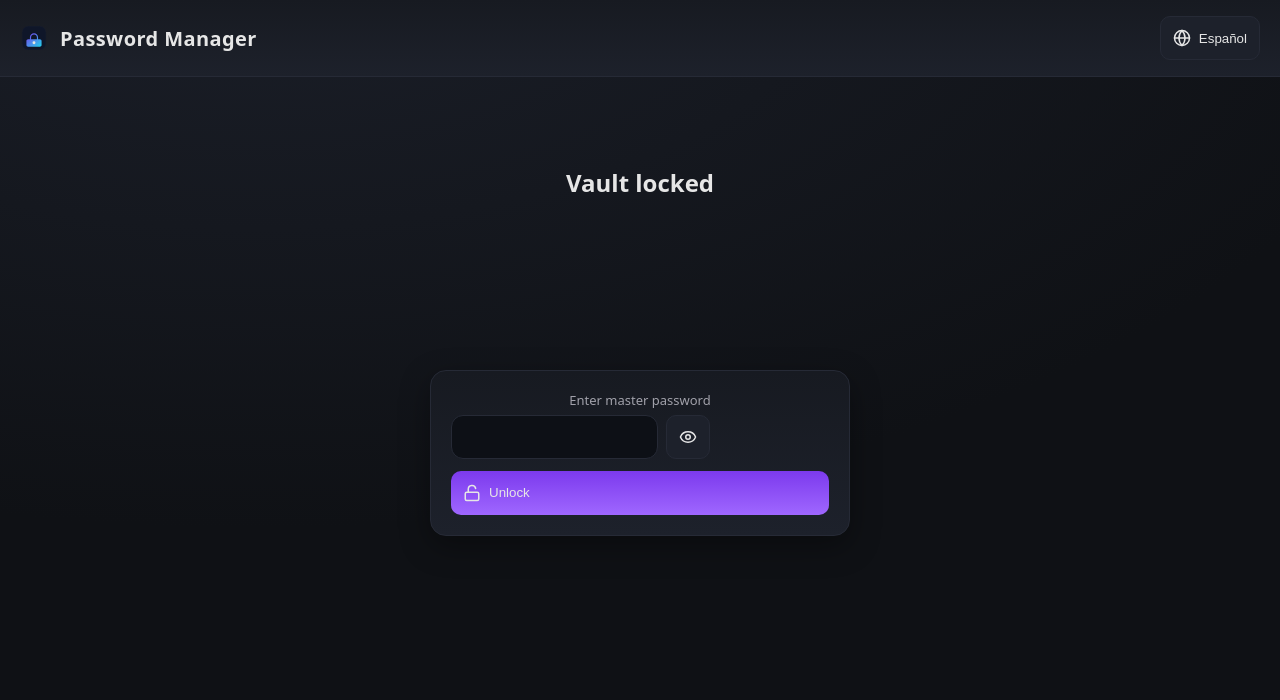
session-state › shows an inline error for a wrong master password
Expected: the heading "Vault locked" is shown, [566,166,714,199]
Step 1. Type "WrongPass!1" into the password field labelled "Enter master password" → (554, 437), box [451,415,658,459]
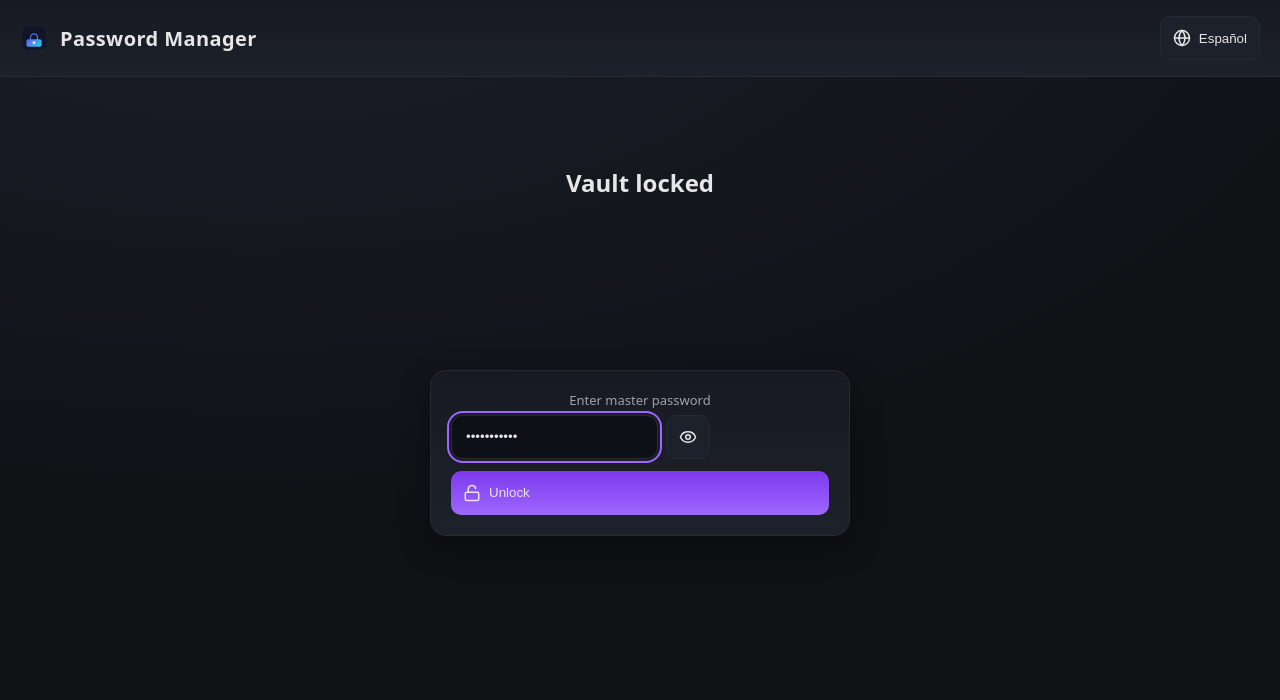
Step 2. Click the button "Unlock" → (509, 493), box [451,471,829,515]
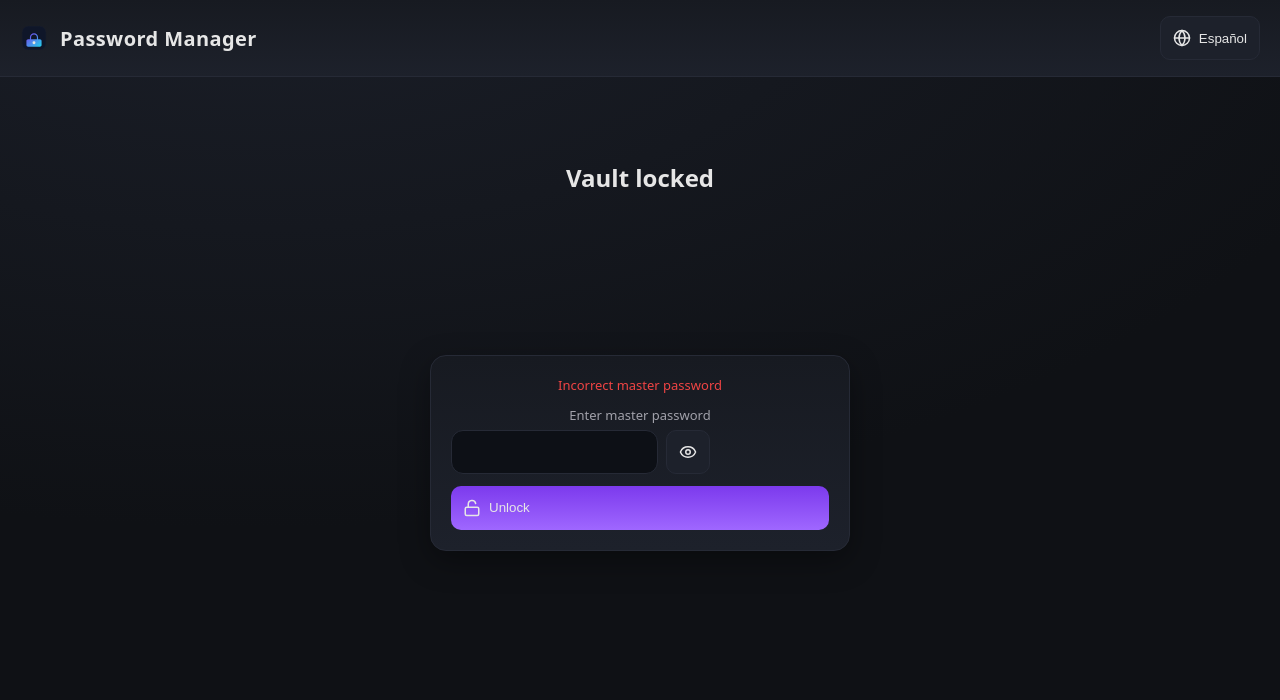
Now the message reads "Incorrect master password", box [558,376,722,394]
